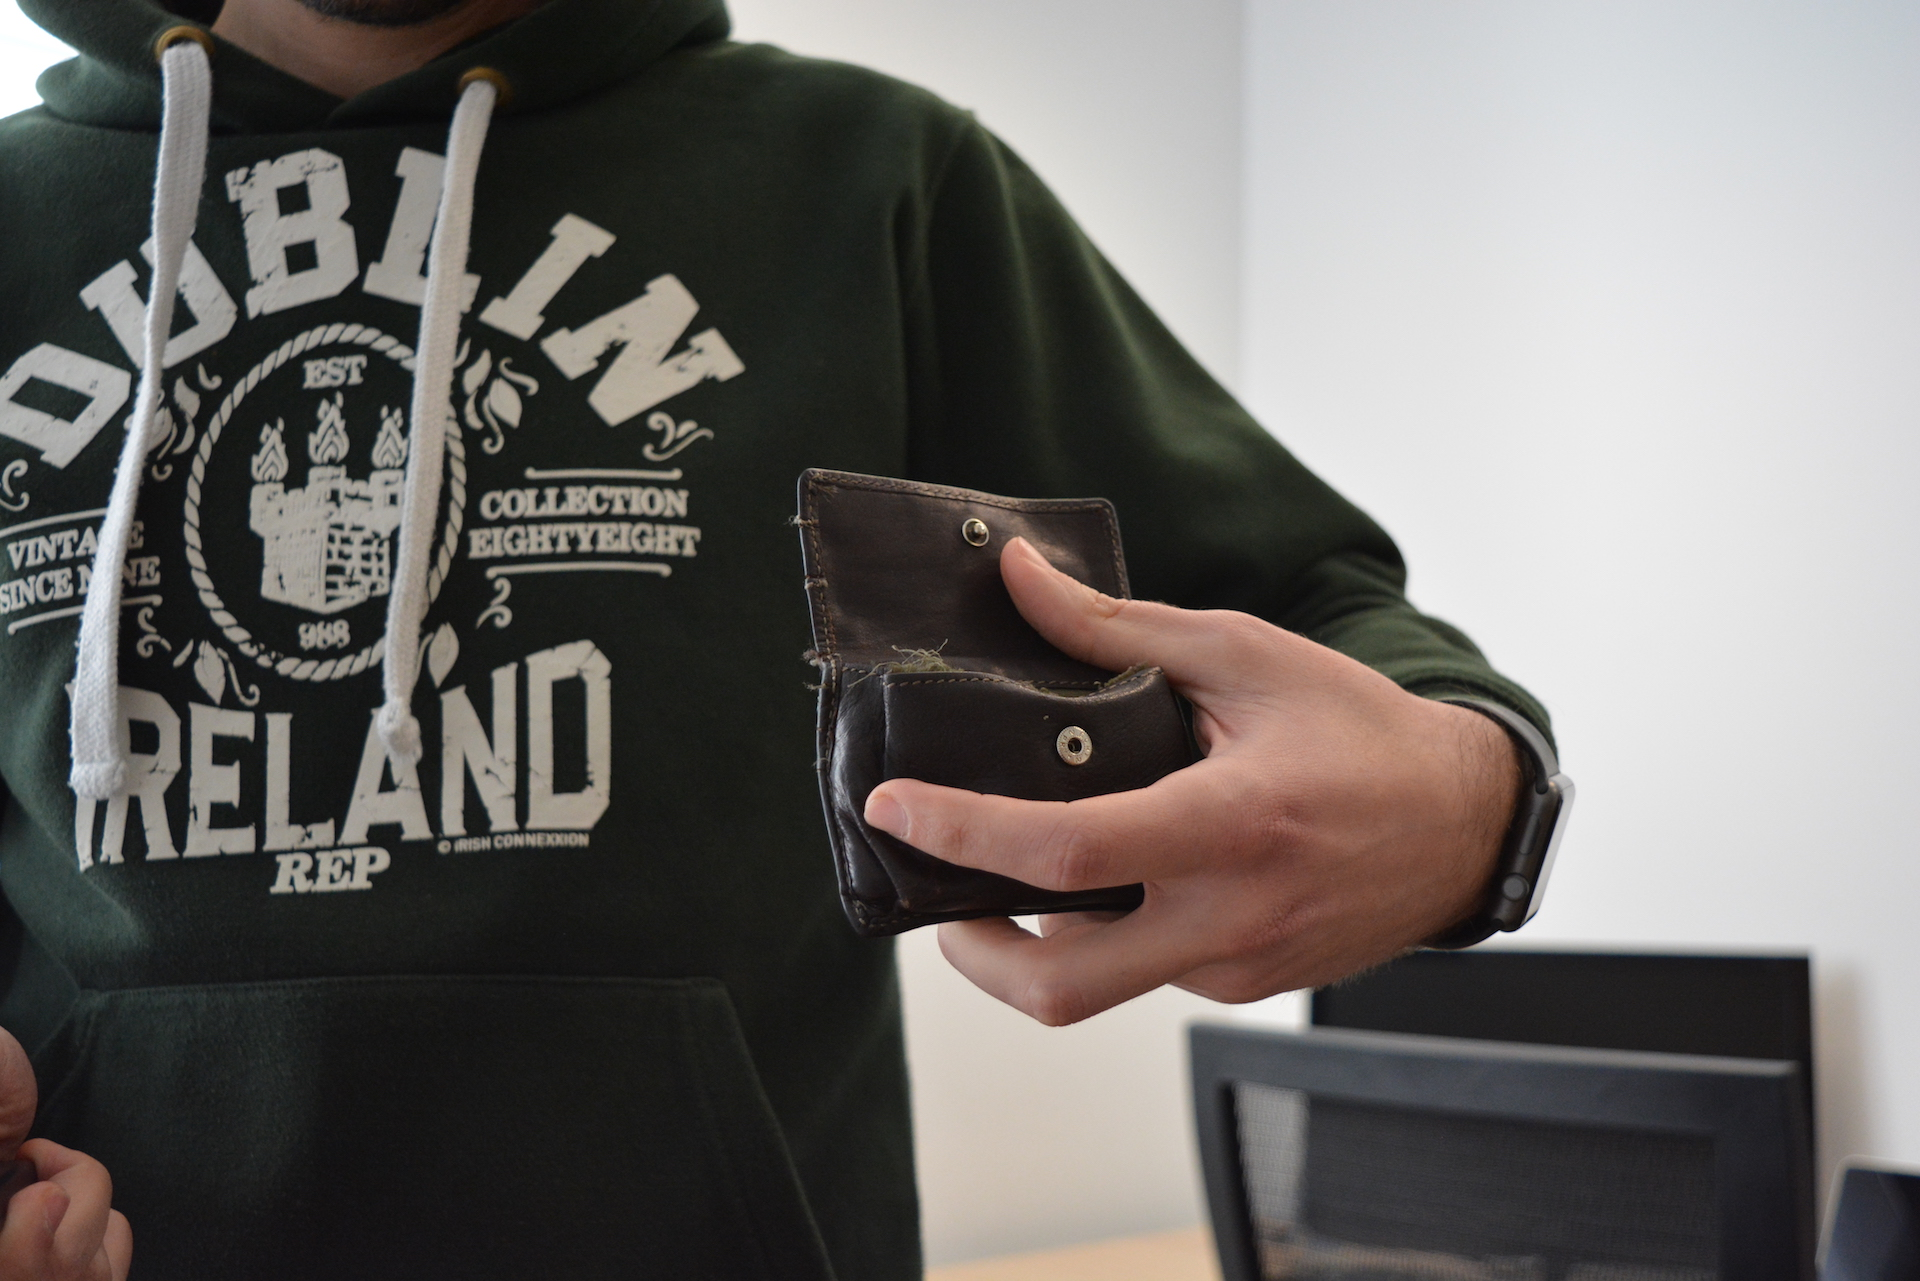monedero: (795, 465, 1209, 942)
